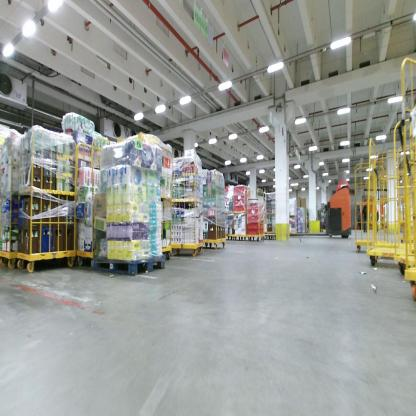pallet: (92, 247, 165, 281), (246, 201, 261, 215)
pallet_truck: (289, 170, 356, 237)
small_load_carrier: (232, 183, 251, 199), (245, 212, 266, 225), (233, 204, 248, 217), (232, 195, 249, 205), (245, 229, 266, 237), (245, 222, 266, 229)
